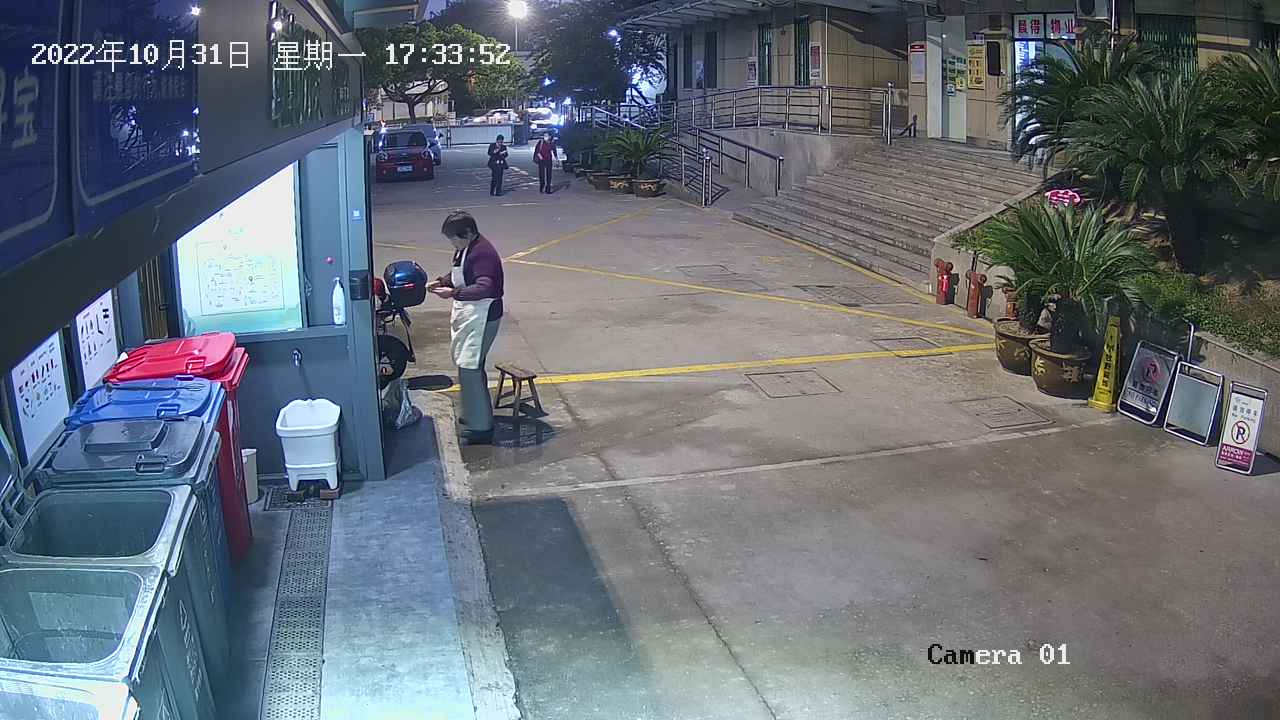person: (424, 210, 507, 447)
